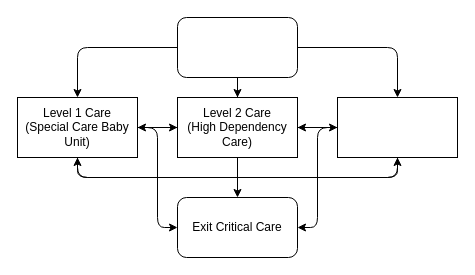
The diagram is 475 pixels wide and 275 high, and some of its shapes have lost their labels. Each missing label, with the centre of its shape:
"Admission" belongs at (x=237, y=47).
"Level 3 Care (Intensive Care)" belongs at (x=397, y=127).
